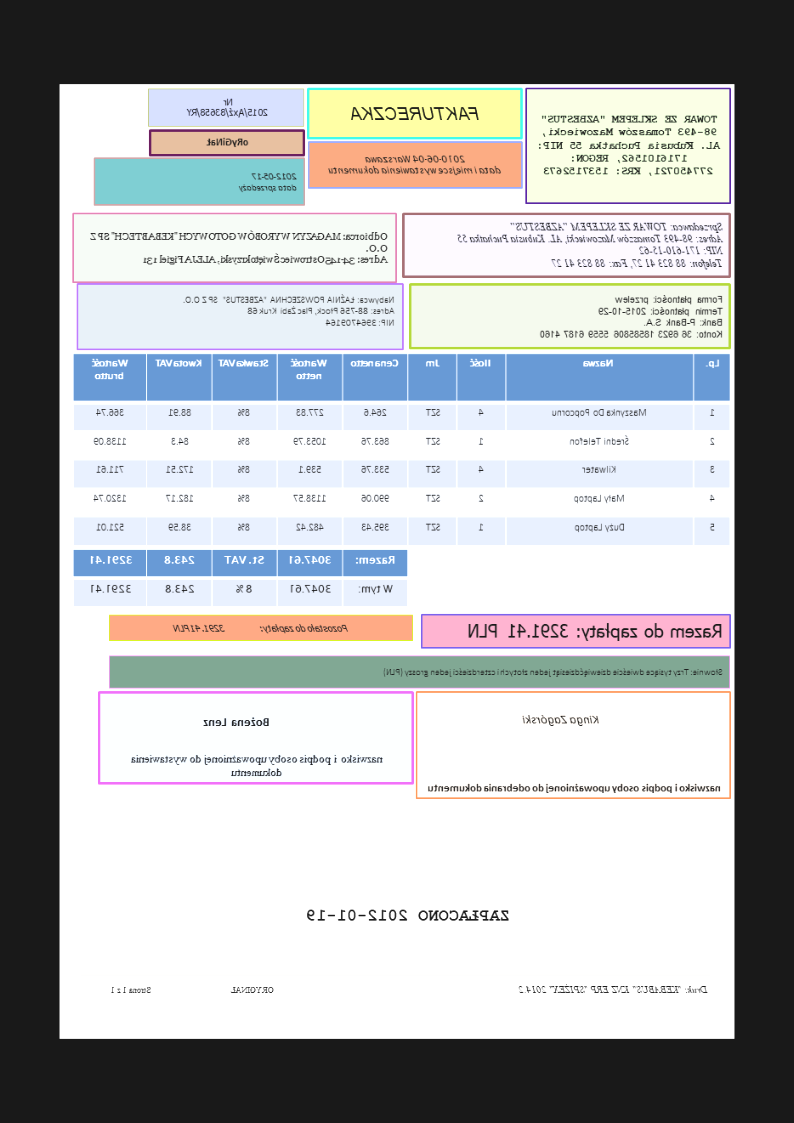Table: (72, 352, 731, 546), (73, 547, 409, 607)
TextBox: (456, 219, 724, 269), (537, 113, 723, 176), (89, 230, 390, 267), (537, 293, 724, 340), (181, 292, 398, 329), (130, 752, 383, 779), (467, 620, 723, 640), (382, 666, 723, 679), (428, 780, 723, 795), (326, 153, 503, 176), (305, 906, 511, 923), (516, 982, 710, 996), (171, 621, 350, 636), (349, 103, 481, 122), (110, 984, 275, 996), (184, 95, 270, 118), (238, 170, 298, 193), (521, 711, 602, 728), (201, 715, 271, 729), (205, 135, 250, 148)
